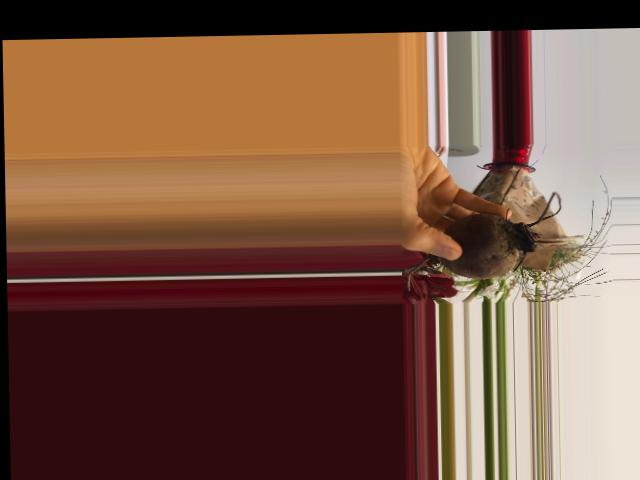beet: (406, 192, 563, 290)
